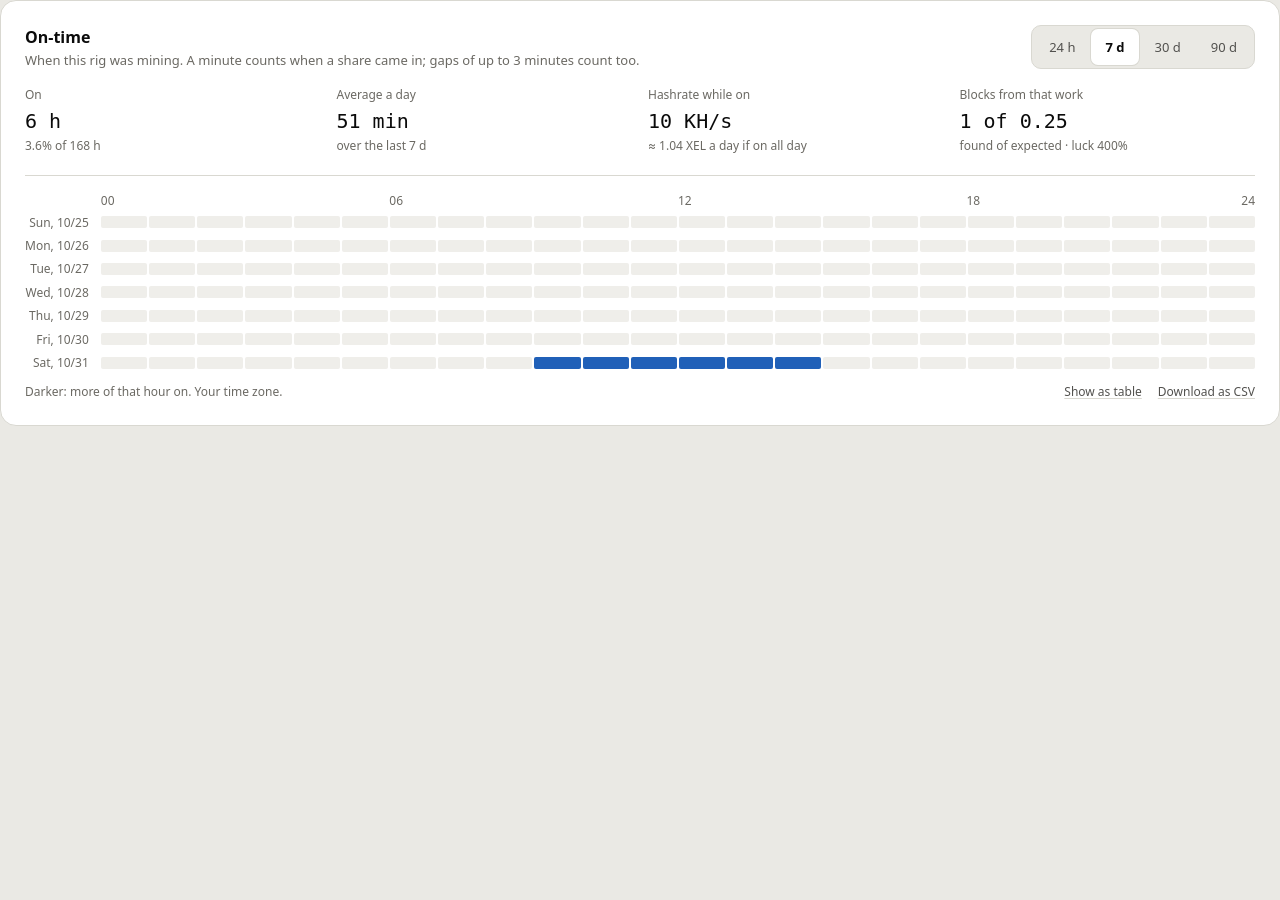
Test case: a rig's time on, its speed while on, and blocks from that work; the strip and table show today's hours
The image size is (1280, 900).
Click the button "Show as table".
click(1103, 392)  # box [1064,384,1142,400]
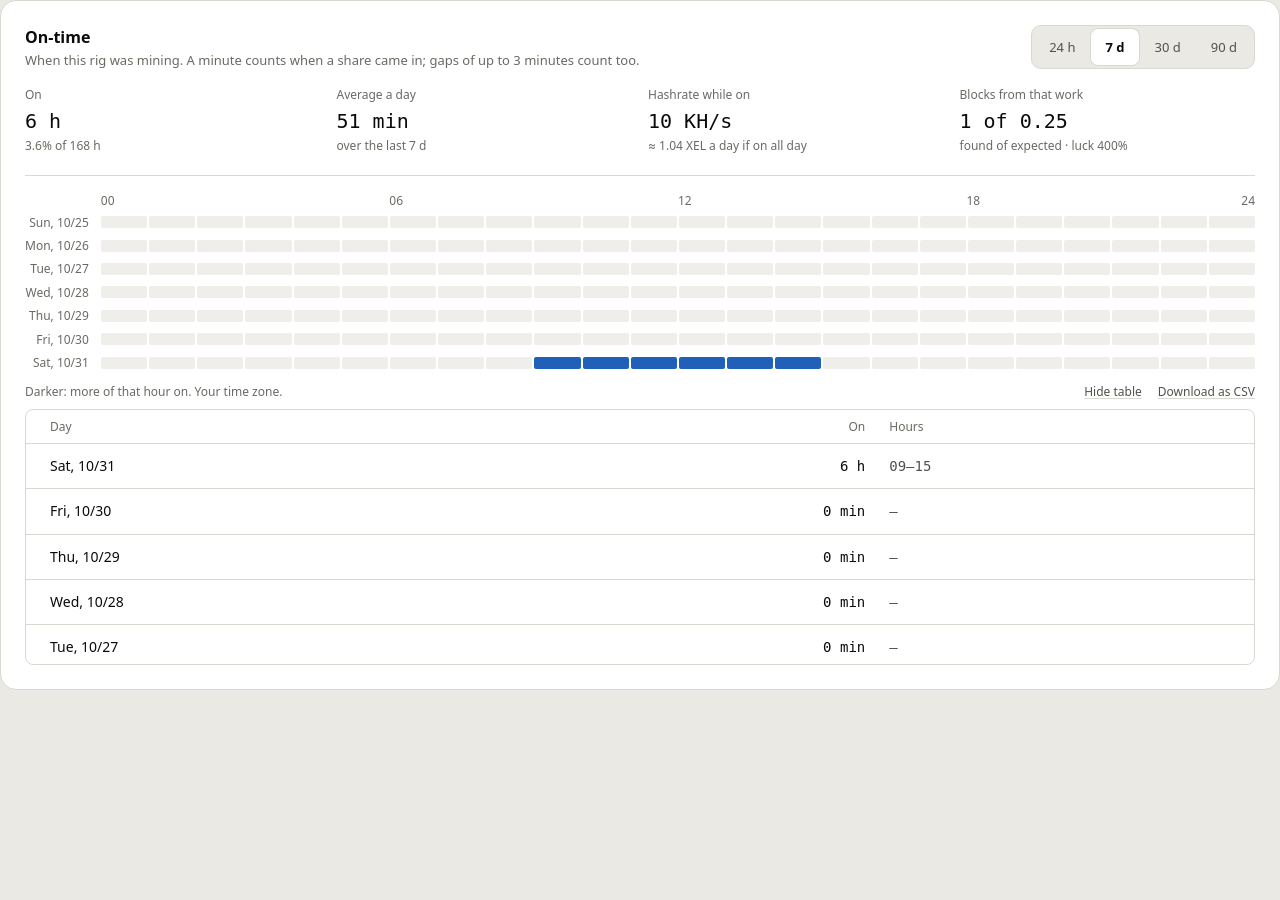
Click the button "24 h".
click(1062, 47)  # box [1035,29,1090,65]
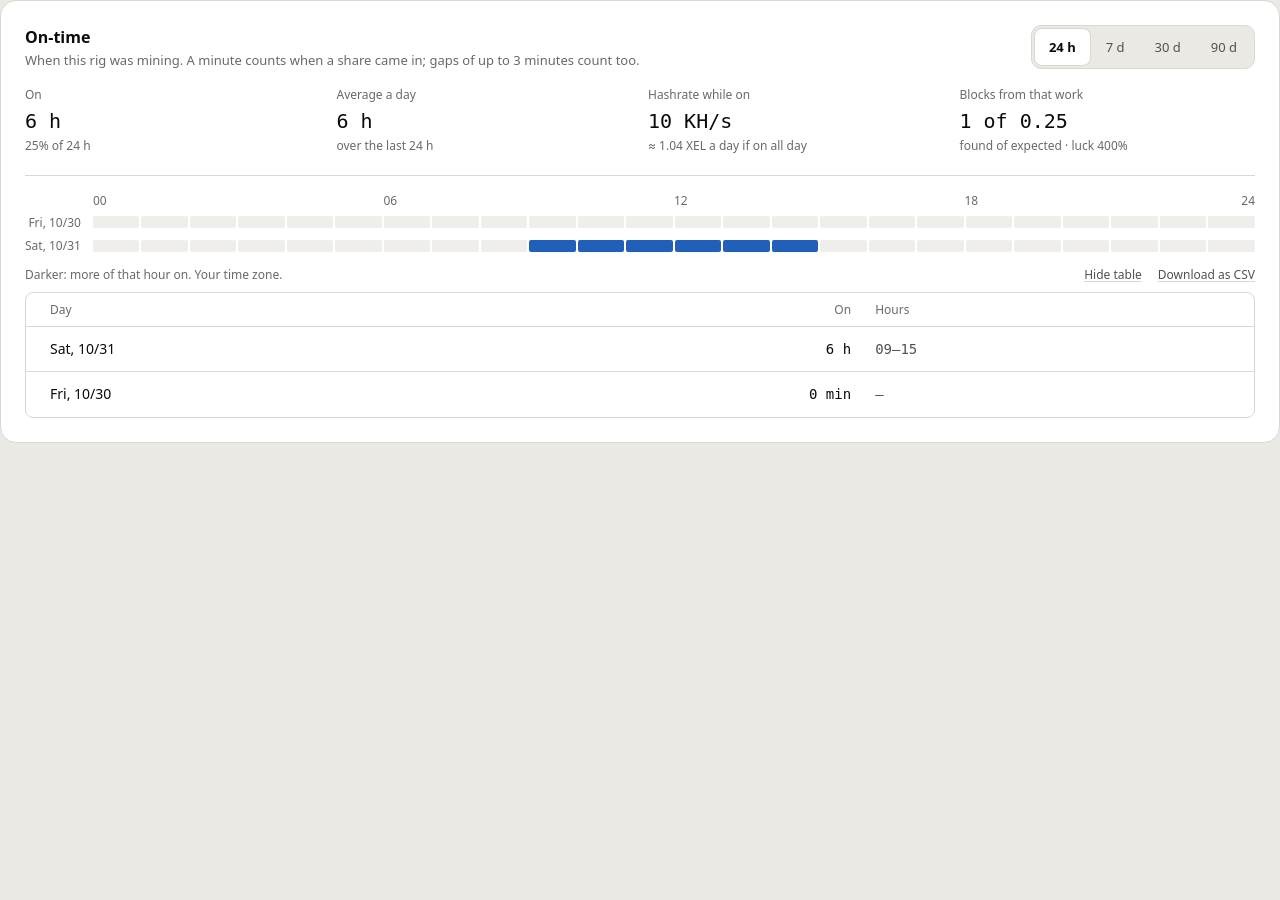
Now the text "25% of 24 h" is shown, box [25,137,91,154]
